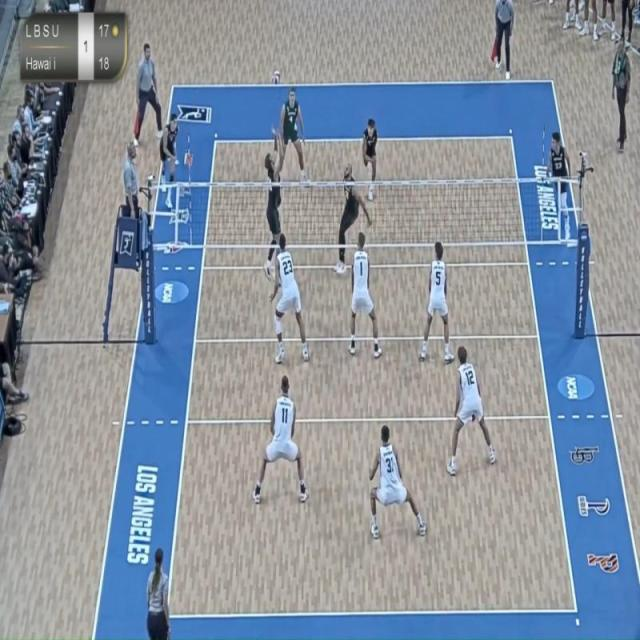volleyball: (269, 64, 284, 92)
